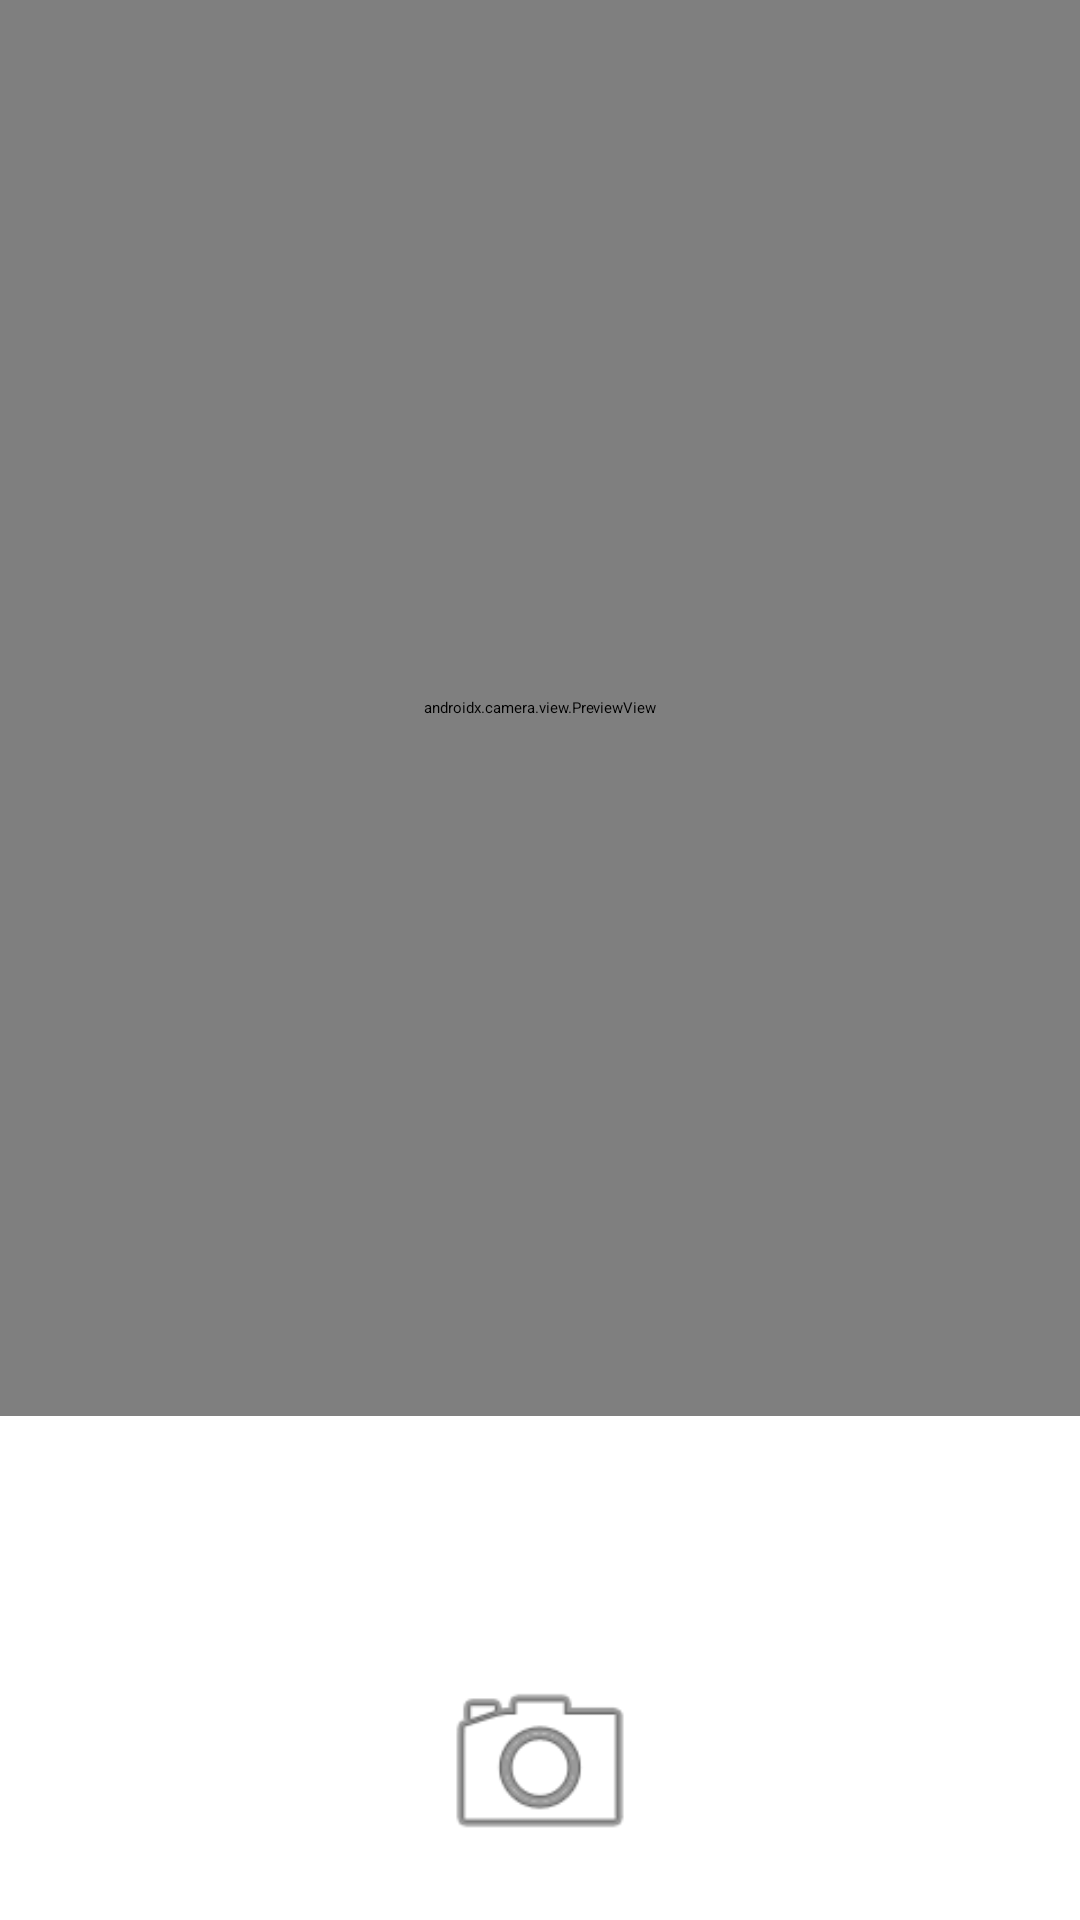

Where icons sit on this 1080w x 1920h app screen, as (x1, y1, x2, y2):
camera: (456, 1694, 624, 1827)
